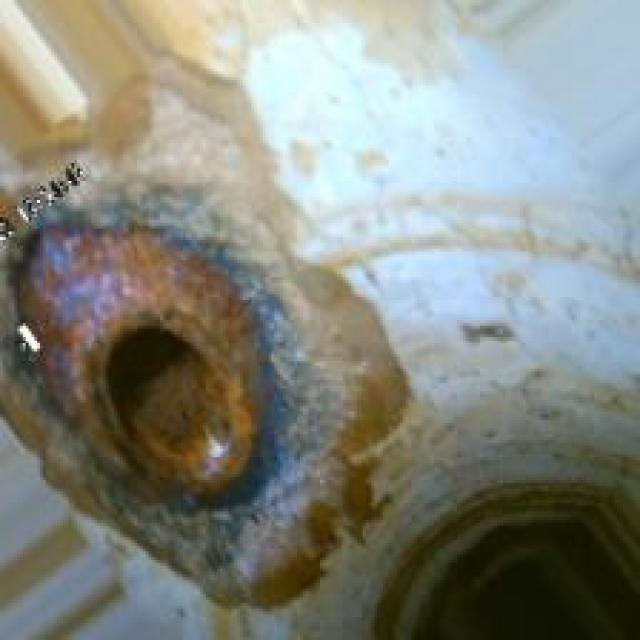ferrule: (54, 237, 309, 514)
